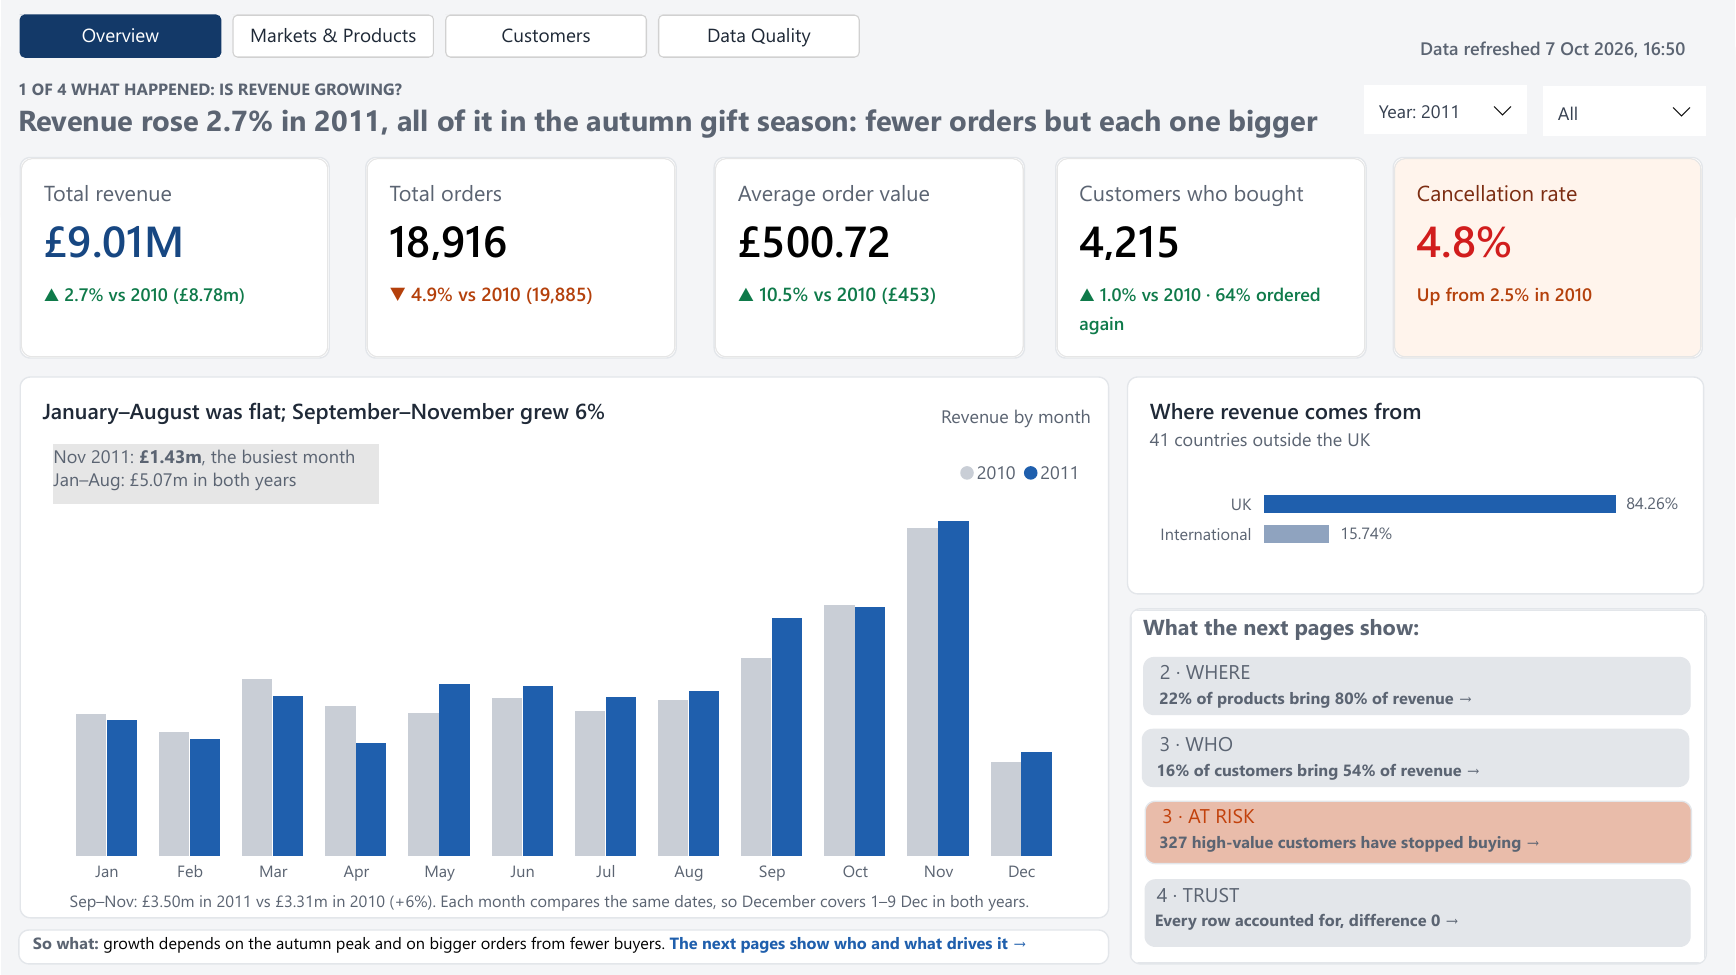

This screenshot's page, from the dashboard's own definition file:
{"tool":"powerbi","page":{"name":"Overview","canvas":[1280,720],"ordinal":0},"visuals":[{"type":"pageNavigator","box":[14,11,620,32],"z":0},{"type":"cardVisual","fields":{"Data":["_Measures (2).Last Refreshed Label"]},"box":[1027,11,232,37],"z":1000},{"type":"textbox","box":[13,57,969,52],"z":2000},{"type":"slicer","fields":{"Values":["Date.Year Label"]},"box":[1006.4,62.5,119.6,37],"z":3000},{"type":"slicer","fields":{"Values":["Customer.Segment"]},"box":[1138,64,119.6,37],"z":4000},{"type":"cardVisual","fields":{"Data":["_Measures (2).Net Revenue"]},"box":[13.7,115.8,229.5,148.8],"z":5000},{"type":"cardVisual","fields":{"Data":["_Measures (2).Orders Display"]},"box":[269.5,115.8,229.5,148.8],"z":6000},{"type":"cardVisual","fields":{"Data":["_Measures (2).Average Order Value"]},"box":[526.3,115.8,229.5,148.8],"z":7000},{"type":"cardVisual","fields":{"Data":["_Measures (2).Active Customers Display"]},"box":[778.2,115.8,229.5,148.8],"z":8000},{"type":"cardVisual","fields":{"Data":["_Measures (2).Cancellation Rate Display"]},"box":[1026.9,115.8,229.5,148.8],"z":9000},{"type":"clusteredColumnChart","title":"January–August was flat; September–November grew 6%","fields":{"Category":["Date.Month Short"],"Y":["_Measures (2).Net Revenue PY","_Measures (2).Net Revenue"]},"box":[14,278,804,400],"z":10000},{"type":"textbox","box":[38.9,327.8,240.2,43.8],"z":11000},{"type":"textbox","box":[693.8,299.2,124.5,29.2],"z":12000},{"type":"textbox","box":[51,656,729,43],"z":13000},{"type":"clusteredBarChart","title":"Where revenue comes from","fields":{"Category":["Country.Market"],"Y":["_Measures (2).Revenue Share %"]},"box":[831,278,426,161],"z":14000},{"type":"shape","box":[833,449,426,263],"z":15000},{"type":"textbox","box":[843,452,223,26],"z":16000},{"type":"textbox","box":[843,485,404,43],"z":17000},{"type":"textbox","box":[842,538,404,43],"z":18000},{"type":"textbox","box":[844,591,404,47],"z":19000},{"type":"textbox","box":[844,649,403,50],"z":20000},{"type":"textbox","box":[13,686,805,26],"z":21000},{"type":"actionButton","box":[842,487,269,40],"z":22000},{"type":"actionButton","box":[844,540,259,40],"z":23000},{"type":"actionButton","box":[844,591,313,47],"z":24000},{"type":"actionButton","box":[844,649,282,50],"z":25000}]}

Visuals, with their boxes in screenshot pixels (x1, y1, x2, y2), scaled from the page's 1280x720 canvas onto the 1736x975 screenshot:
pageNavigator: bbox=[19, 15, 860, 58]
cardVisual - _Measures (2).Last Refreshed Label: bbox=[1393, 15, 1708, 65]
textbox: bbox=[18, 77, 1332, 148]
slicer - Date.Year Label: bbox=[1365, 85, 1527, 135]
slicer - Customer.Segment: bbox=[1543, 87, 1706, 137]
cardVisual - _Measures (2).Net Revenue: bbox=[19, 157, 330, 358]
cardVisual - _Measures (2).Orders Display: bbox=[366, 157, 677, 358]
cardVisual - _Measures (2).Average Order Value: bbox=[714, 157, 1025, 358]
cardVisual - _Measures (2).Active Customers Display: bbox=[1055, 157, 1367, 358]
cardVisual - _Measures (2).Cancellation Rate Display: bbox=[1393, 157, 1704, 358]
"January–August was flat; September–November grew 6%" clusteredColumnChart: bbox=[19, 376, 1109, 918]
textbox: bbox=[53, 444, 379, 503]
textbox: bbox=[941, 405, 1110, 445]
textbox: bbox=[69, 888, 1058, 947]
"Where revenue comes from" clusteredBarChart: bbox=[1127, 376, 1705, 594]
shape: bbox=[1130, 608, 1708, 964]
textbox: bbox=[1143, 612, 1446, 647]
textbox: bbox=[1143, 657, 1691, 715]
textbox: bbox=[1142, 729, 1690, 787]
textbox: bbox=[1145, 800, 1693, 864]
textbox: bbox=[1145, 879, 1691, 947]
textbox: bbox=[18, 929, 1109, 964]
actionButton: bbox=[1142, 659, 1507, 714]
actionButton: bbox=[1145, 731, 1496, 785]
actionButton: bbox=[1145, 800, 1569, 864]
actionButton: bbox=[1145, 879, 1527, 947]
